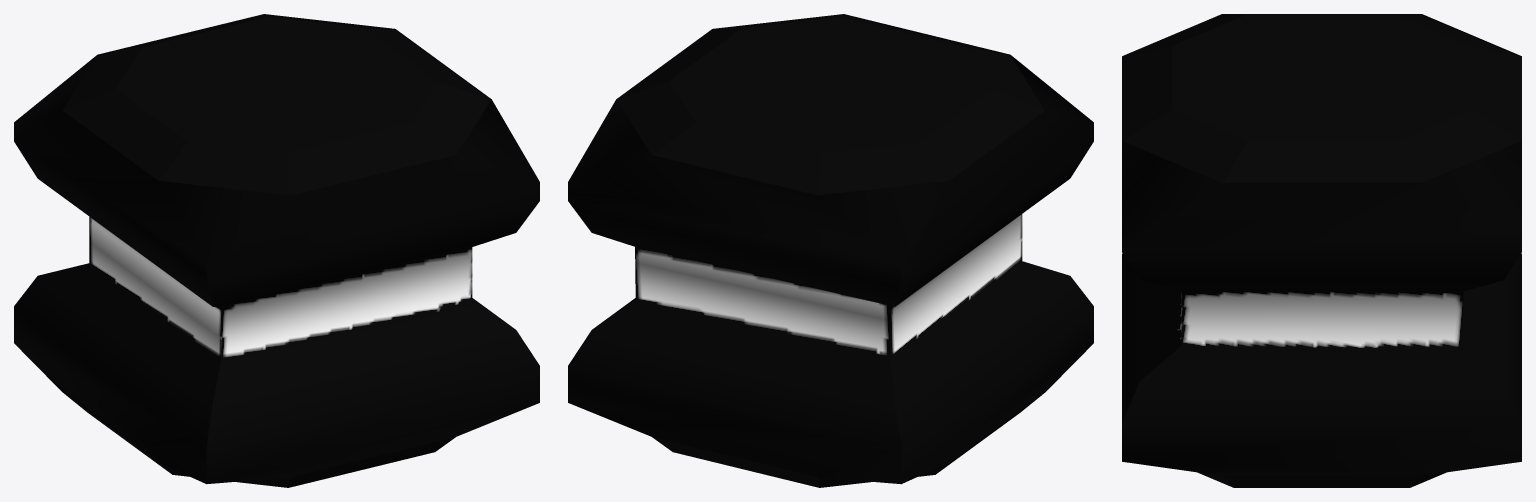
Rendered from Note.fbx.
3 views of the same model, side by side, from view 1: azimuth 30°, elevation 25°; view 2: azimuth 150°, elevation 25°; view 3: azimuth 270°, elevation 25° (orthographic). The views are drawn at different scales.
Visible parts, largest first — view 1: pCube1; view 2: pCube1; view 3: pCube1.
Boxes of the visible parts, bbox=[...] form: pCube1: bbox=[14, 14, 539, 487]; pCube1: bbox=[568, 14, 1093, 487]; pCube1: bbox=[1122, 14, 1521, 487].
Bounding box in the file's own units: 1 × 0.9259 × 1.
